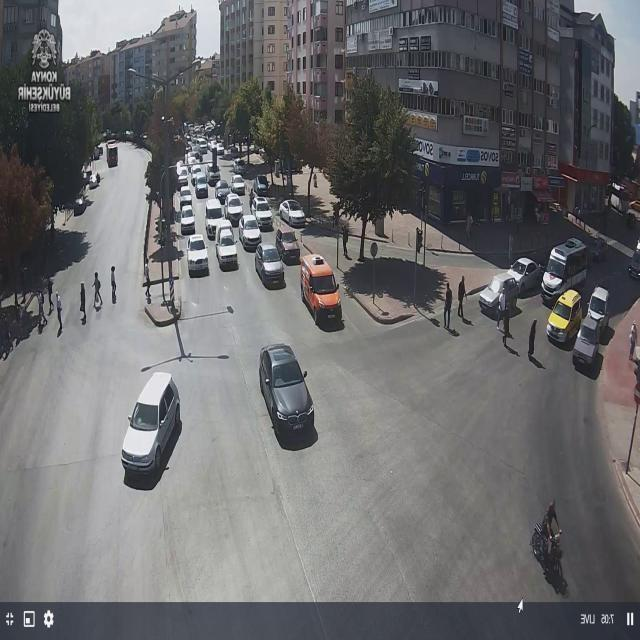Car: (119, 365, 182, 480), (259, 343, 315, 438), (480, 258, 540, 315), (547, 290, 583, 343), (572, 315, 602, 370), (254, 242, 285, 287), (214, 227, 239, 270), (186, 233, 209, 276), (587, 286, 610, 328), (275, 228, 301, 264), (238, 215, 262, 249), (279, 199, 306, 228), (250, 197, 274, 229), (223, 194, 244, 225), (180, 204, 196, 234), (627, 242, 640, 277), (192, 166, 208, 190), (214, 180, 231, 202), (252, 176, 270, 196), (230, 174, 247, 194), (179, 189, 193, 211), (177, 166, 190, 187), (207, 166, 221, 184), (232, 158, 246, 174)
Truck: (542, 240, 589, 302)
Van: (300, 254, 342, 325), (204, 198, 225, 232)
